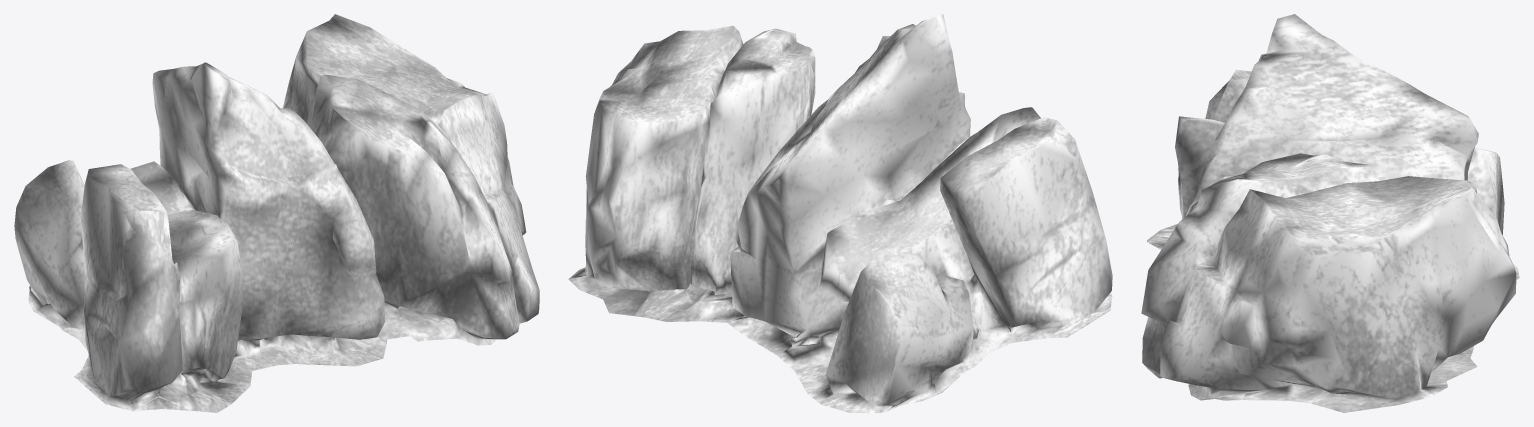
The model's file is rubble.glb.
The picture shows the model from 3 angles, left to right: view 1: azimuth 30°, elevation 25°; view 2: azimuth 150°, elevation 25°; view 3: azimuth 270°, elevation 25°; orthographic projection. The views are drawn at different scales.
Bounding box in the file's own units: 2.22 × 1.43 × 1.78.
1 material, 1 textured.
